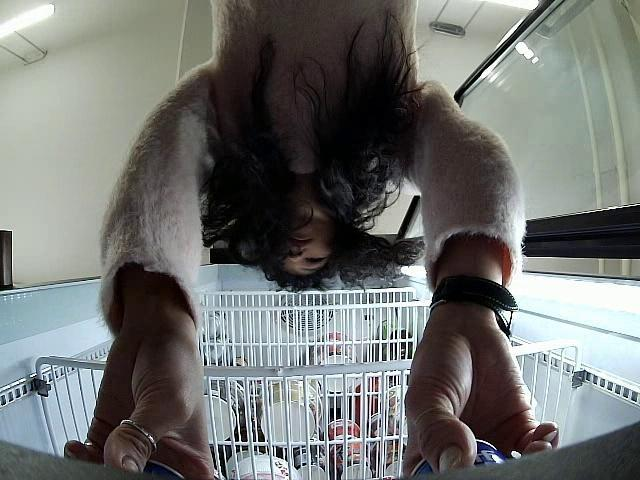16_hot6: (407, 439, 511, 480)
